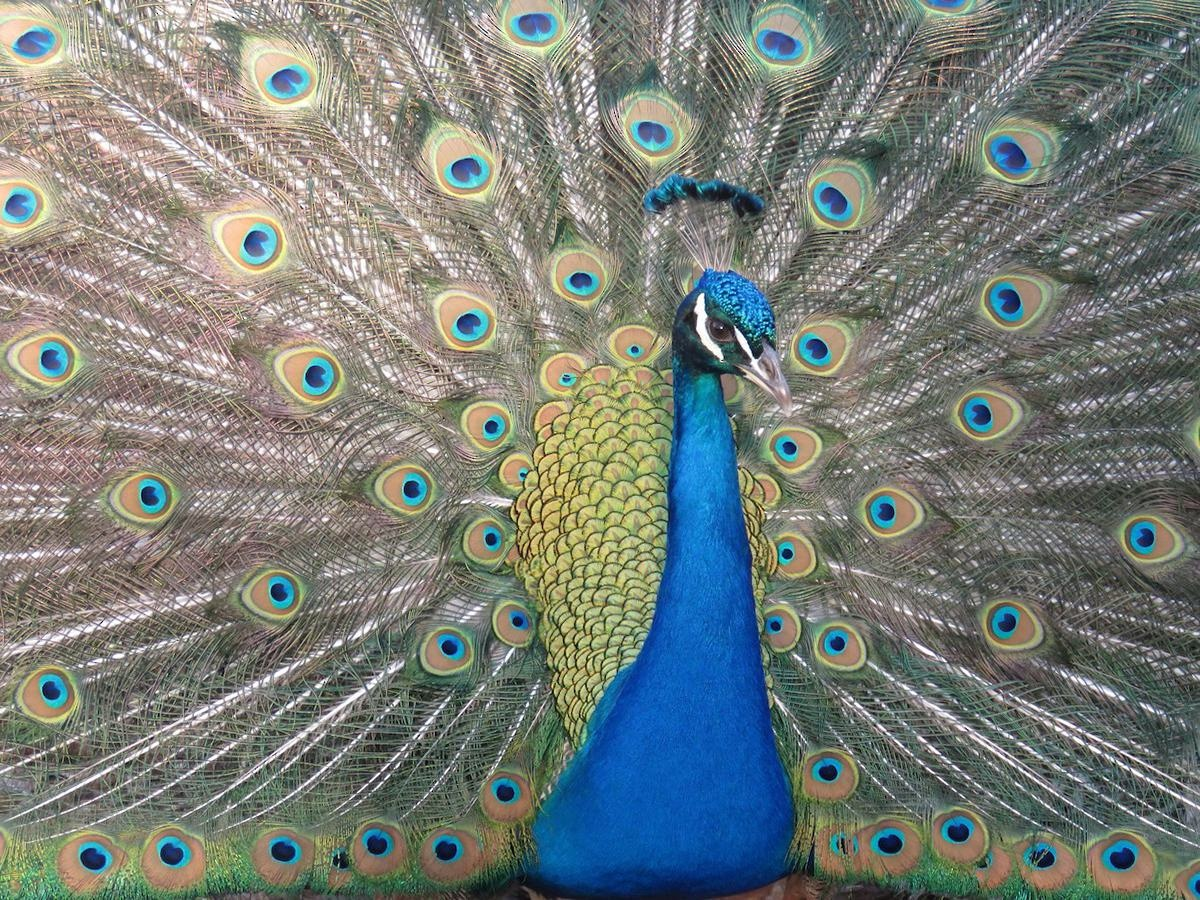peacock: (200, 120, 1200, 900)
